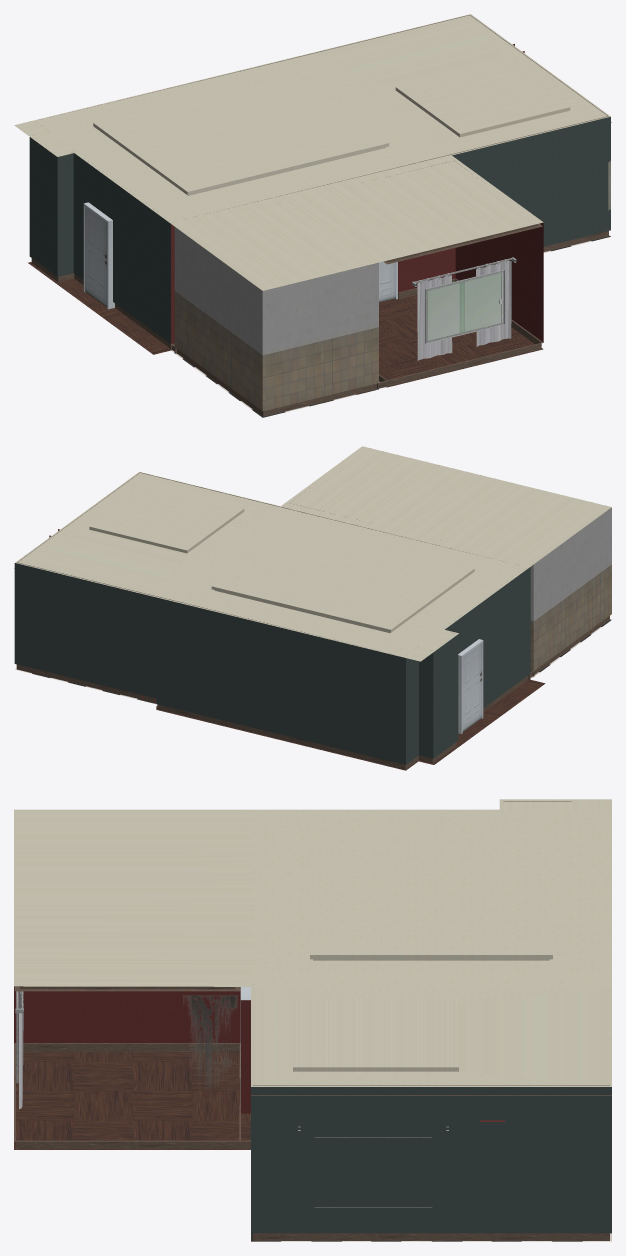
The model's file is low_poly__apartment.glb.
3 renders of one model, top to bottom at view 1: azimuth 30°, elevation 25°; view 2: azimuth 150°, elevation 25°; view 3: azimuth 270°, elevation 25°, orthographic. The views are drawn at different scales.
Visible parts, largest first — view 1: apartmentCeiling_whiteBare_0, apartmentWalls_greenBare_0, apartmentBathroom_apartmentAtlas_0, apartmentFloor_apartmentAtlas_0, windows.001_windowsMaterial_0, apartmentBedroom_redBare_0, apartmentBaseboard.001_apartmentAtlas_0, apartmentDoor.002_apartmentDoor_0, apartmentDoorFrame.002_apartmentDoor_0, apartmentBaseboard.002_apartmentAtlas_0, apartmentDivwall.002_apartmentAtlas_0, apartmentDoor.001_apartmentDoor_0; view 2: apartmentCeiling_whiteBare_0, apartmentWalls_greenBare_0, apartmentBathroom_apartmentAtlas_0, apartmentBaseboard.001_apartmentAtlas_0, apartmentFloor_apartmentAtlas_0, apartmentDoor.002_apartmentDoor_0, apartmentDoorFrame.002_apartmentDoor_0, apartmentBaseboard.002_apartmentAtlas_0; view 3: apartmentCeiling_whiteBare_0, apartmentWalls_greenBare_0, apartmentFloor_apartmentAtlas_0, apartmentBedroom_redBare_0, apartmentBaseboard.001_apartmentAtlas_0, apartmentDecal.003_decal01_0, apartmentBaseboard_apartmentAtlas_0, apartmentDivwall.002_apartmentAtlas_0, apartmentlivingRoomWall_redBare_0, windows.001_windowsMaterial_0, apartmentBaseboard.002_apartmentAtlas_0.
Boxes of the visible parts, bbox=[...] form: apartmentCeiling_whiteBare_0: bbox=[14, 14, 610, 290]; apartmentWalls_greenBare_0: bbox=[29, 116, 610, 343]; apartmentBathroom_apartmentAtlas_0: bbox=[174, 227, 378, 411]; apartmentFloor_apartmentAtlas_0: bbox=[28, 235, 610, 417]; windows.001_windowsMaterial_0: bbox=[412, 257, 516, 360]; apartmentBedroom_redBare_0: bbox=[398, 222, 543, 342]; apartmentBaseboard.001_apartmentAtlas_0: bbox=[31, 231, 608, 416]; apartmentDoor.002_apartmentDoor_0: bbox=[85, 207, 106, 306]; apartmentDoorFrame.002_apartmentDoor_0: bbox=[83, 202, 114, 309]; apartmentBaseboard.002_apartmentAtlas_0: bbox=[87, 15, 611, 206]; apartmentDivwall.002_apartmentAtlas_0: bbox=[356, 162, 542, 268]; apartmentDoor.001_apartmentDoor_0: bbox=[379, 261, 395, 302]; apartmentCeiling_whiteBare_0: bbox=[15, 446, 611, 661]; apartmentWalls_greenBare_0: bbox=[14, 563, 530, 764]; apartmentBathroom_apartmentAtlas_0: bbox=[530, 507, 611, 671]; apartmentBaseboard.001_apartmentAtlas_0: bbox=[16, 616, 609, 769]; apartmentFloor_apartmentAtlas_0: bbox=[15, 619, 611, 770]; apartmentDoor.002_apartmentDoor_0: bbox=[462, 643, 482, 731]; apartmentDoorFrame.002_apartmentDoor_0: bbox=[458, 639, 483, 733]; apartmentBaseboard.002_apartmentAtlas_0: bbox=[14, 472, 466, 640]; apartmentCeiling_whiteBare_0: bbox=[14, 799, 611, 1086]; apartmentWalls_greenBare_0: bbox=[251, 1087, 611, 1233]; apartmentFloor_apartmentAtlas_0: bbox=[14, 1051, 611, 1241]; apartmentBedroom_redBare_0: bbox=[14, 986, 240, 1042]; apartmentBaseboard.001_apartmentAtlas_0: bbox=[14, 1043, 609, 1240]; apartmentDecal.003_decal01_0: bbox=[183, 995, 237, 1089]; apartmentBaseboard_apartmentAtlas_0: bbox=[16, 1043, 240, 1140]; apartmentDivwall.002_apartmentAtlas_0: bbox=[14, 986, 240, 991]; apartmentlivingRoomWall_redBare_0: bbox=[241, 1000, 250, 1113]; windows.001_windowsMaterial_0: bbox=[15, 991, 23, 1109]; apartmentBaseboard.002_apartmentAtlas_0: bbox=[251, 801, 611, 1095].
Bounding box in the file's own units: 11.48 × 3.15 × 10.03.
11 materials, 11 textured.
